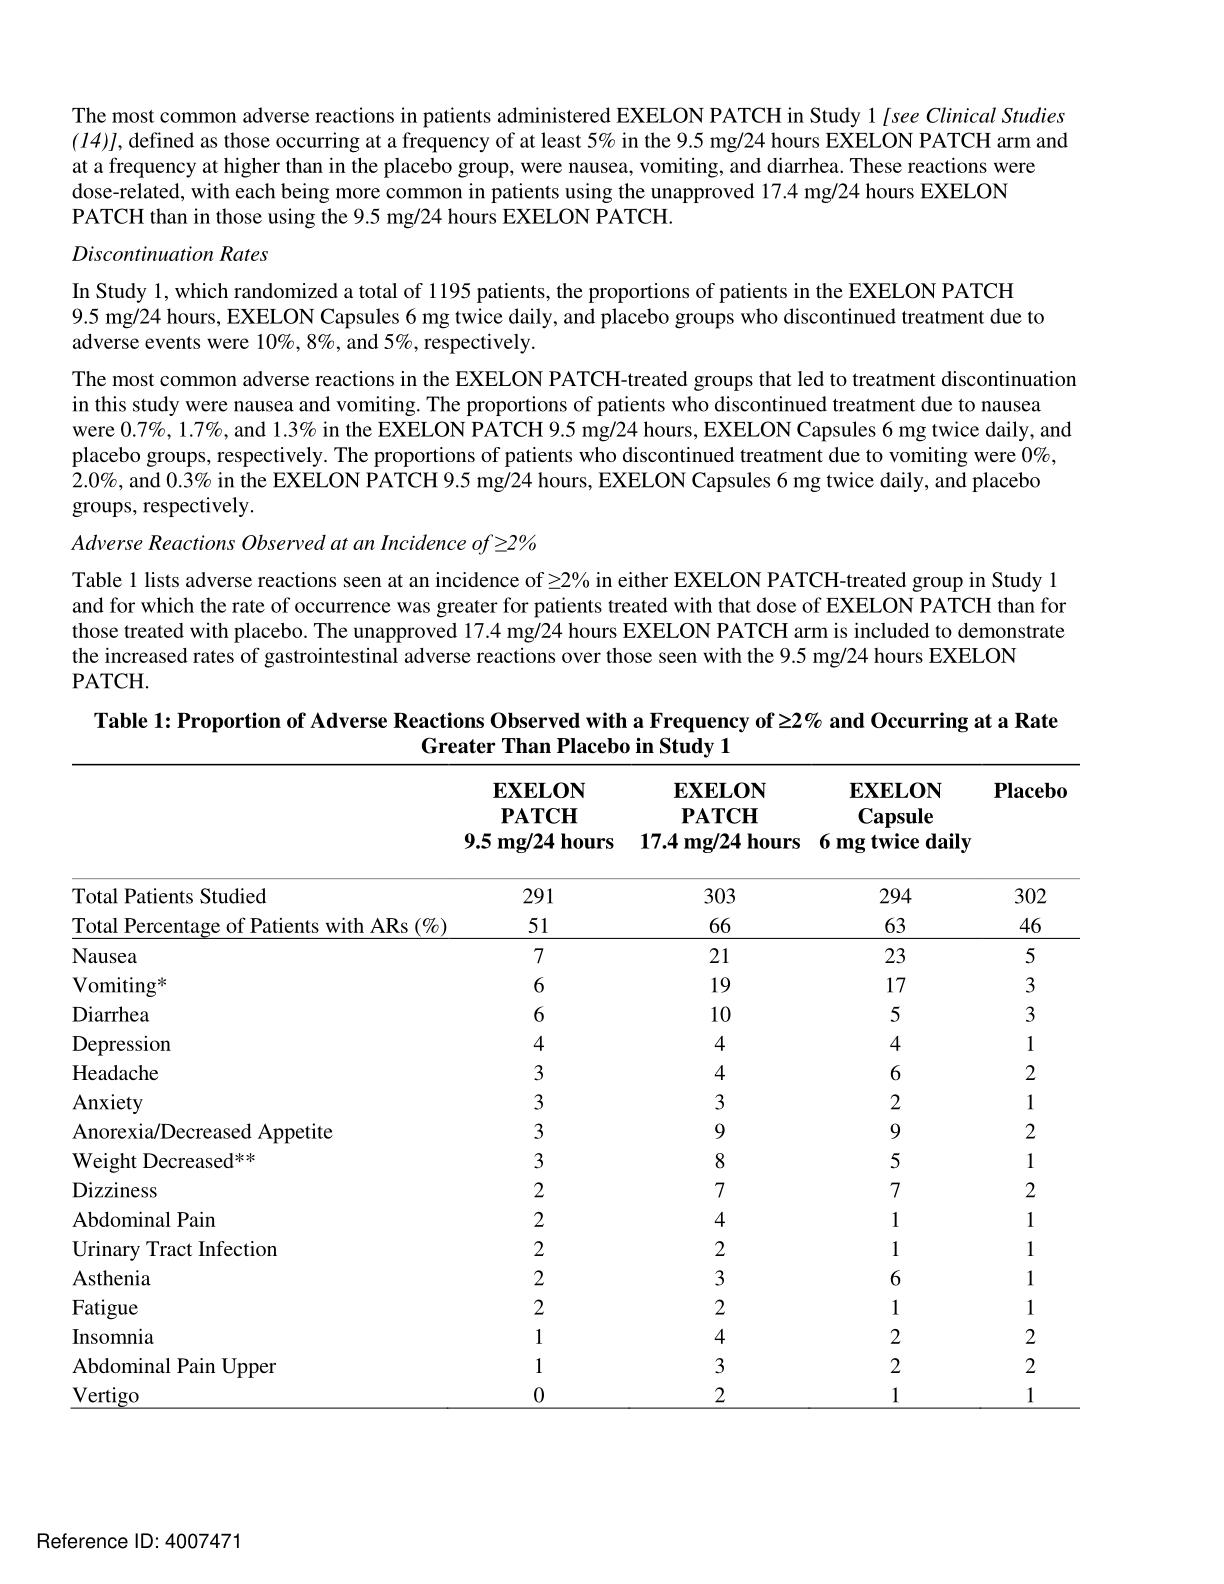partial_lined: (69, 761, 1079, 1408)
